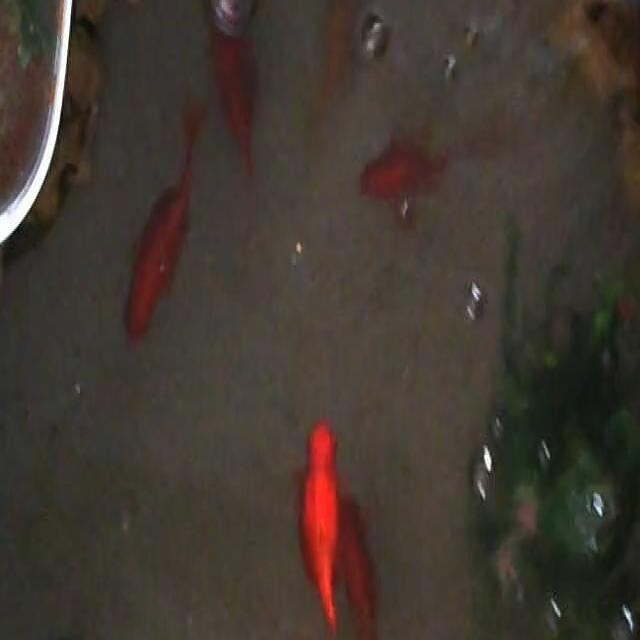fish: (122, 91, 208, 348), (293, 418, 343, 640), (359, 130, 459, 231), (208, 17, 260, 185), (313, 0, 359, 119), (340, 487, 374, 640)
